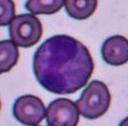E: (32, 34, 94, 94)
